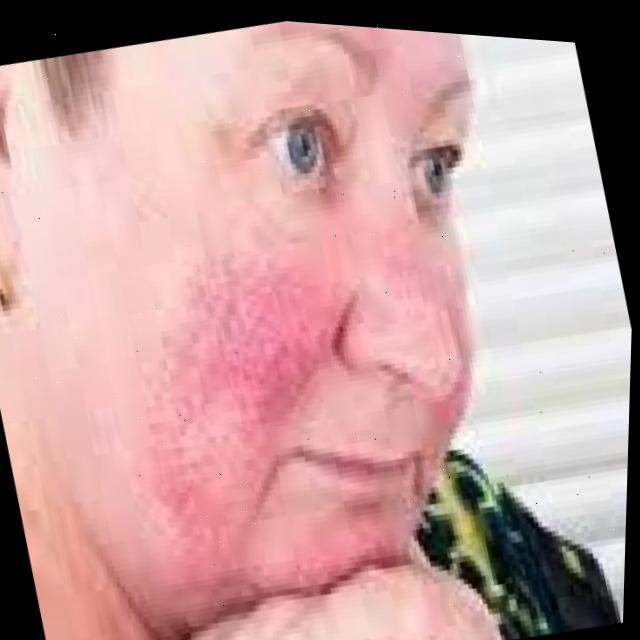Rosacea: (103, 224, 366, 508)
